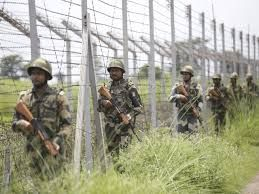gun: (97, 82, 154, 144), (7, 99, 65, 159), (166, 82, 215, 126)
uniform: (16, 58, 71, 191), (101, 66, 141, 175), (175, 61, 205, 139), (207, 70, 229, 134), (226, 68, 245, 125), (244, 67, 258, 115)
